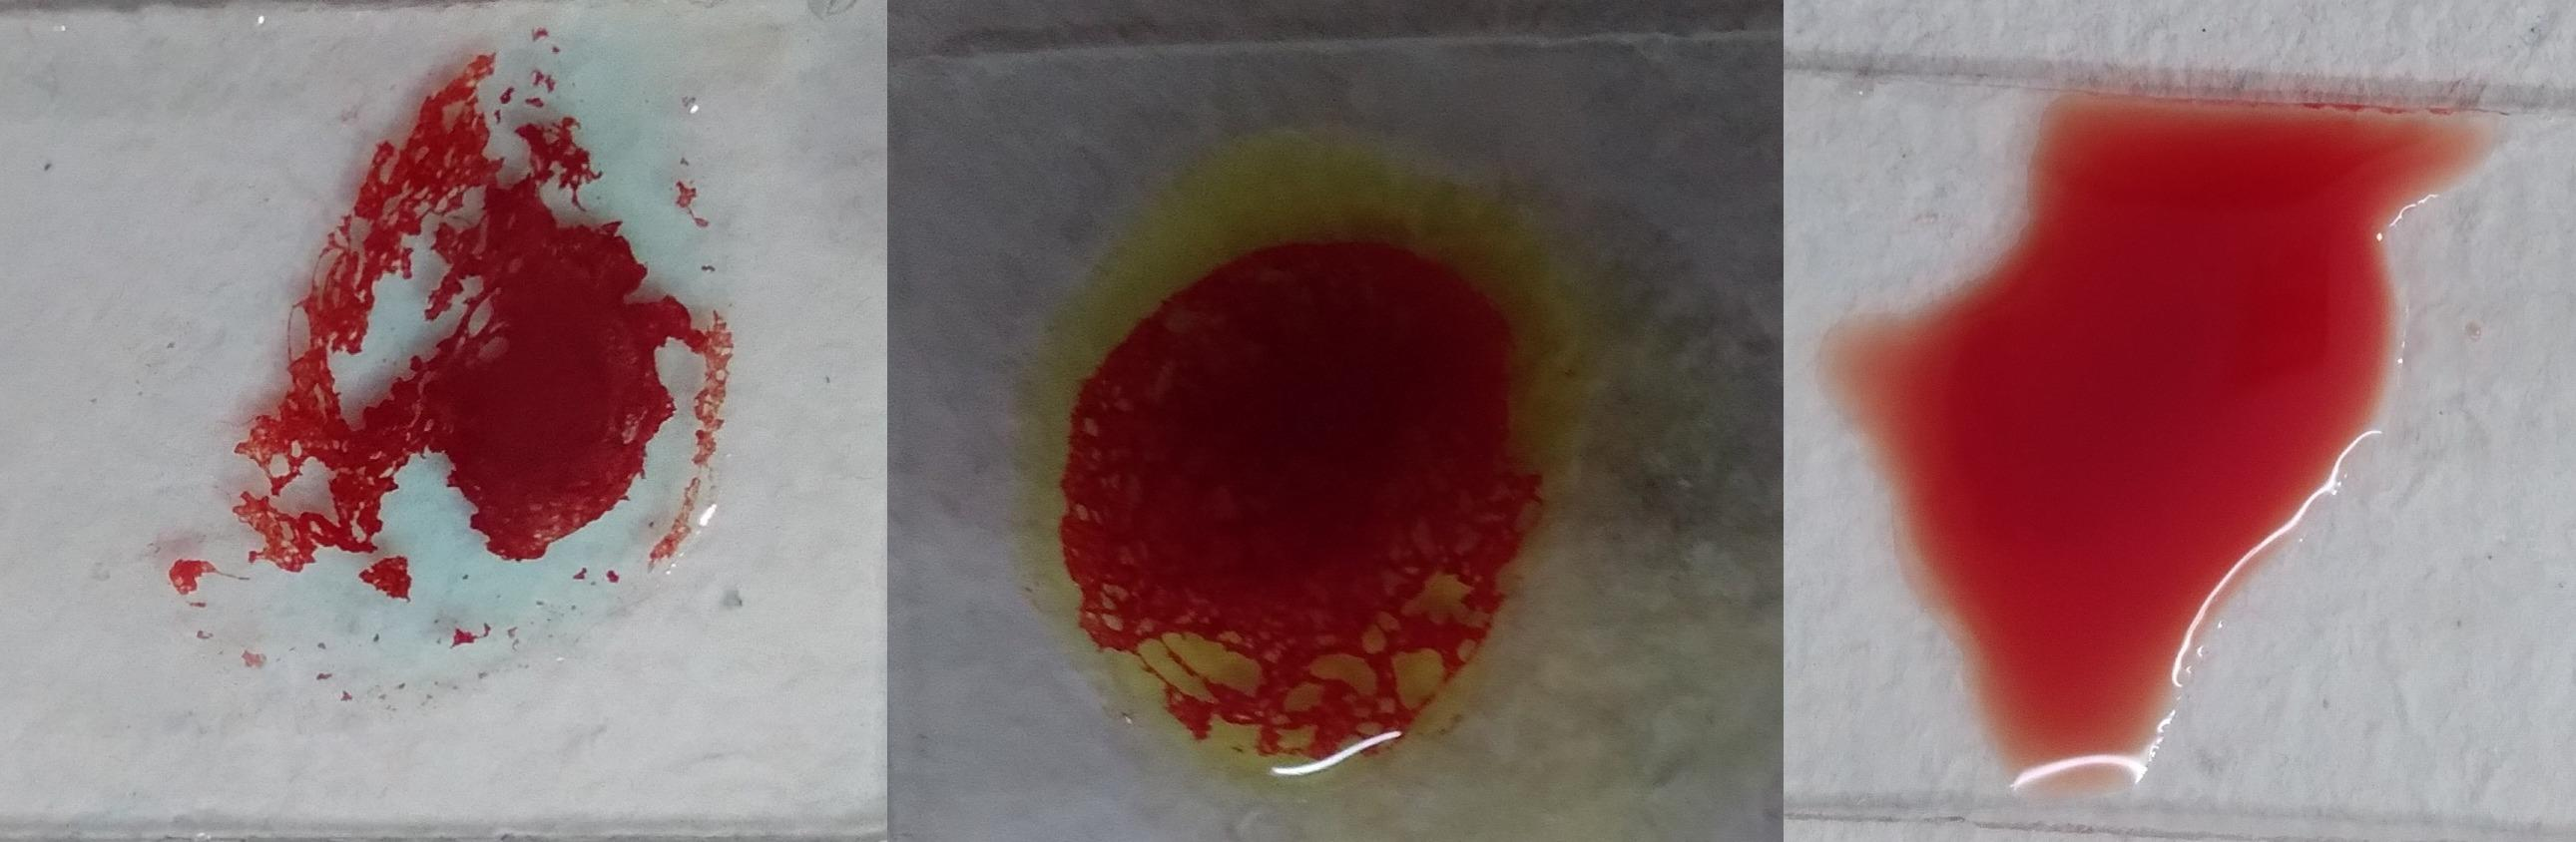A: (205, 33, 738, 725)
B: (1023, 123, 1608, 804)
